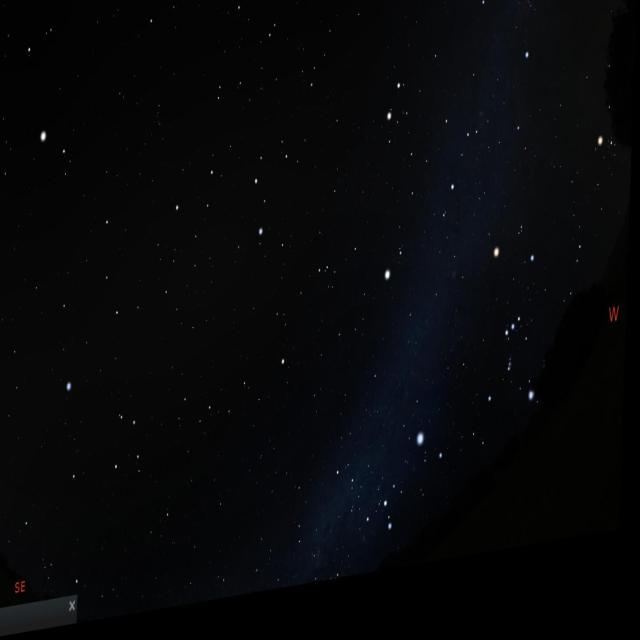bootes: (0, 0, 94, 159)
canis_major: (383, 446, 460, 556)
canis_minor: (380, 256, 416, 314)
gemini: (382, 72, 486, 250)
leo: (168, 132, 296, 292)
orion: (482, 240, 550, 436)
taurus: (594, 94, 635, 208)
